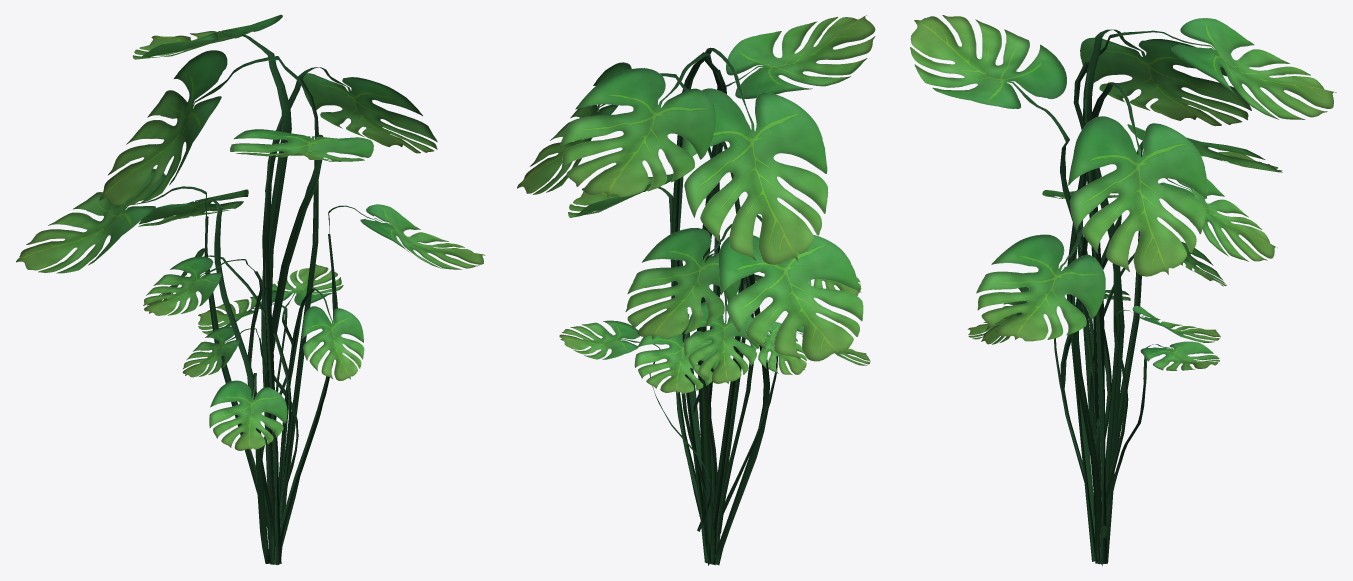
File: wide_leaf_plant.fbx
3 views of the same model, side by side, from view 1: azimuth 30°, elevation 25°; view 2: azimuth 150°, elevation 25°; view 3: azimuth 270°, elevation 25° (orthographic). The views are drawn at different scales.
Visible parts, largest first — view 1: leaf_1.004; view 2: leaf_1.004; view 3: leaf_1.004.
Boxes of the visible parts, left/top/right/bottom form: leaf_1.004: left=16, top=14, right=485, bottom=564; leaf_1.004: left=517, top=15, right=875, bottom=565; leaf_1.004: left=910, top=15, right=1336, bottom=565.
Bounding box in the file's own units: 76.57 × 101 × 74.86.
